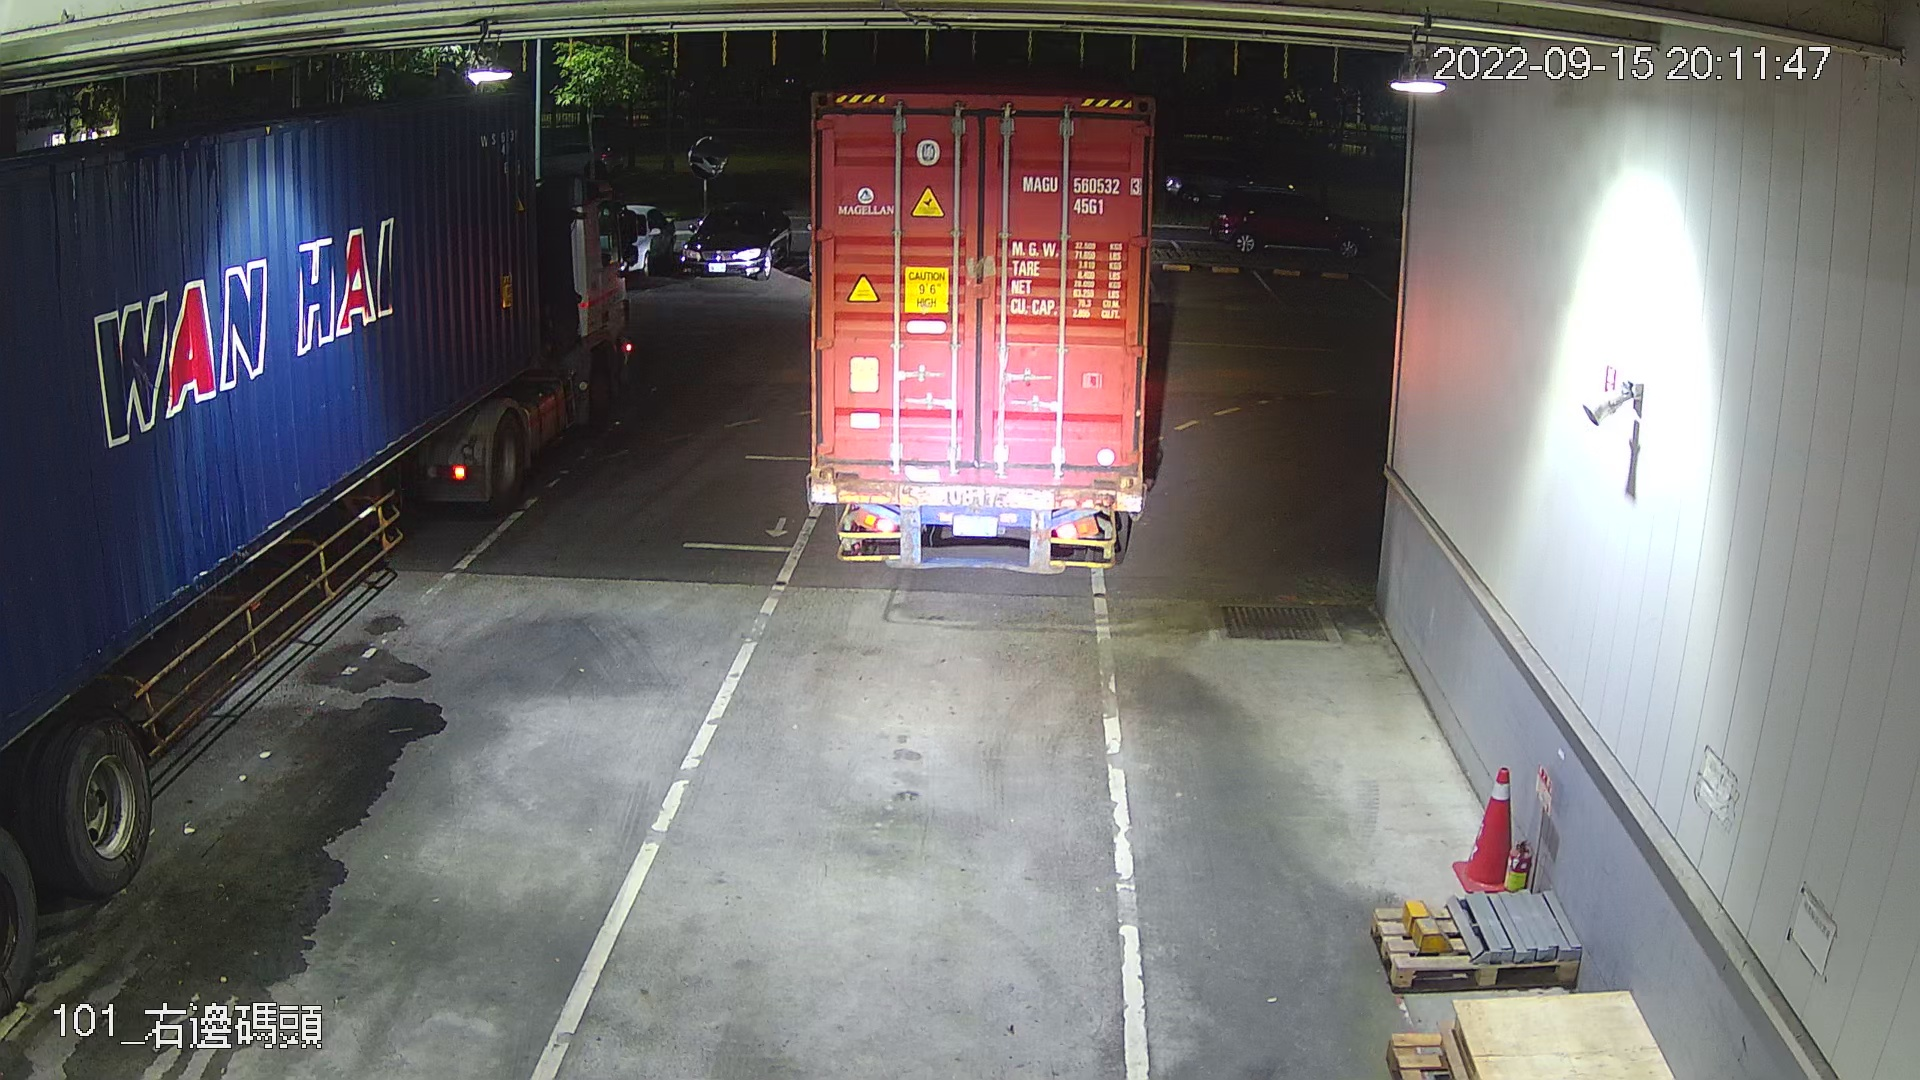container: (1017, 164, 1147, 222)
